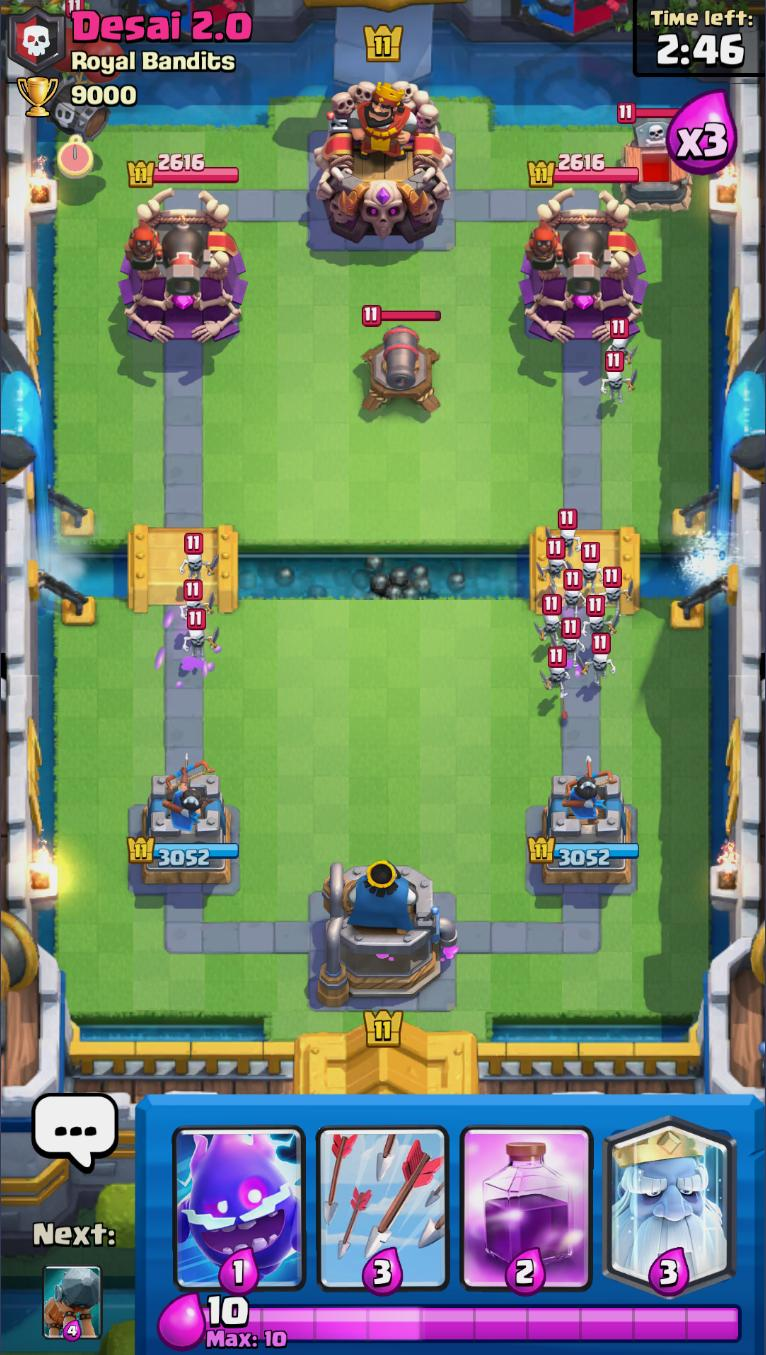ArrowDeck: (311, 1099, 454, 1293)
BattleRamNext: (41, 1263, 103, 1340)
Cannon: (360, 303, 443, 420)
Cannoneer: (524, 211, 610, 296), (124, 211, 207, 297)
ElectroSpiritDeck: (171, 1099, 310, 1294)
Elixir: (201, 1294, 746, 1349)
EnemyTower: (517, 184, 650, 344), (117, 187, 249, 343)
KingTower: (311, 77, 457, 246)
MyKingTower: (314, 857, 460, 1004)
MyPrincessTower: (527, 769, 643, 891), (126, 770, 241, 890)
MyPrincessTowerHP: (524, 831, 643, 871), (126, 831, 240, 870)
RageDeck: (454, 1099, 600, 1293)
RoyaleGhostDeck: (600, 1097, 740, 1293)
Skeleton: (178, 610, 221, 665), (564, 538, 605, 592), (179, 531, 220, 583), (540, 646, 578, 700), (597, 353, 637, 403), (550, 569, 589, 620), (578, 635, 616, 685), (535, 594, 568, 651), (546, 507, 577, 564), (603, 319, 639, 367), (177, 579, 215, 623), (552, 616, 587, 663), (583, 593, 618, 640), (604, 566, 636, 616), (536, 537, 569, 584)
Tombstone: (614, 101, 693, 214)
TowerPrincessHP: (526, 151, 641, 190), (124, 151, 240, 187)
